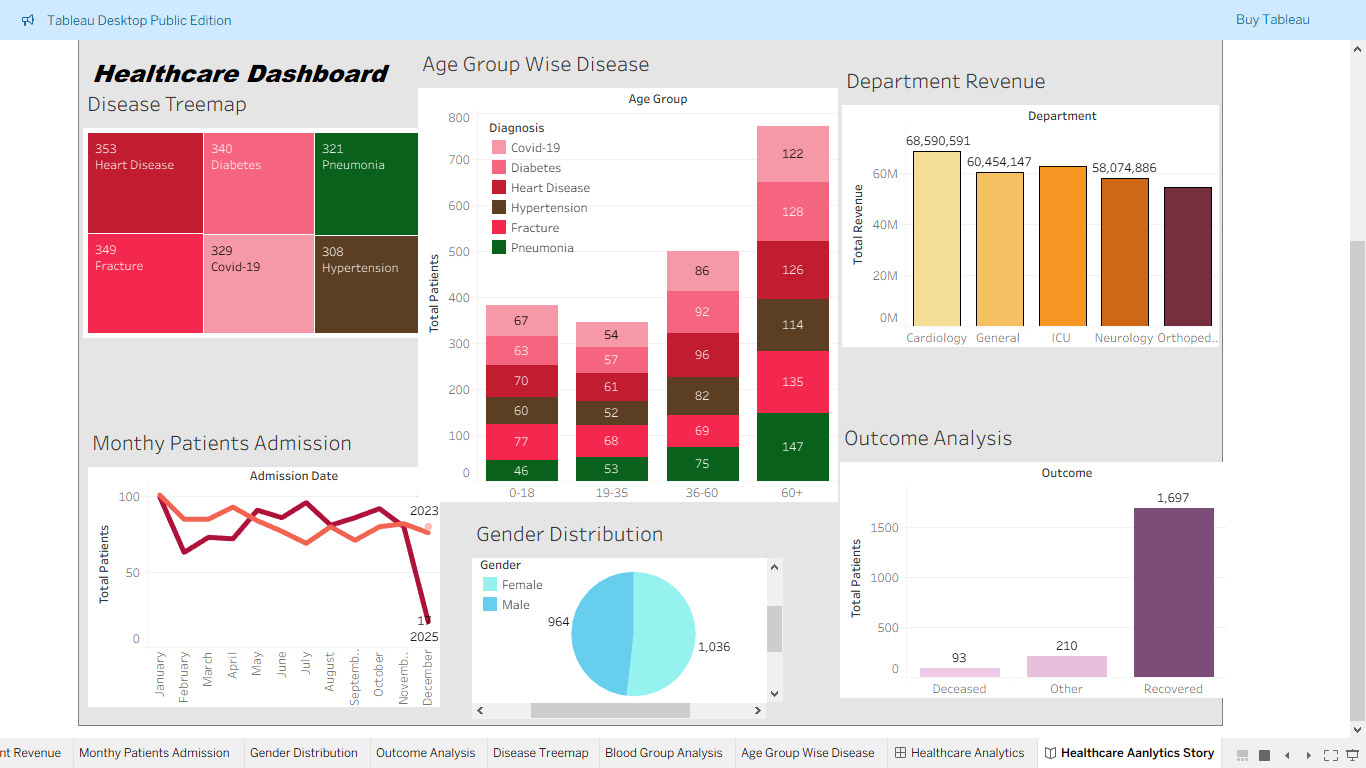

This screenshot's page, from the dashboard's own definition file:
{"tool":"tableau","page":{"name":"Healthcare Analytics","canvas":[1000,1000],"units":"permille","ordinal":0},"visuals":[{"type":"dashboard-object","param":"[com.tableau.addfilters].[0.0.0].[https://extensions.tableauusercontent.com/sand","box":[0,0,960.7,1000]},{"type":"text","box":[5.9,11.8,266.9,87.8]},{"type":"worksheet","title":"Age Group Wise Disease","mark":"Automatic","rows":["Calculation_226024446052048896"],"cols":["Age Group"],"box":[286.9,15.6,350,656.2]},{"type":"worksheet","title":"Department Revenue","mark":"Automatic","rows":["Calculation_226024446052782081"],"cols":["Department"],"box":[640.2,39.9,313.9,409.7]},{"type":"worksheet","title":"Disease Treemap","mark":"Automatic","box":[7.4,72.9,282.8,432.3]},{"type":"legend","title":"Age Group Wise Disease","param":"[federated.0wfbc6o1i18im51bnst9g1fkhtbh].[none:Diagnosis:nk]","box":[345.9,121.5,113.1,210.1]},{"type":"worksheet","title":"Outcome Analysis","mark":"Automatic","rows":["Patient_ID"],"cols":["Outcome"],"box":[638.5,553.8,322.1,401]},{"type":"worksheet","title":"Monthy Patients Admission","mark":"Line","rows":["Calculation_226024446052048896"],"cols":["Admission_Date"],"box":[11.7,560.8,293.7,407.1]},{"type":"worksheet","title":"Gender Distribution","mark":"Pie","box":[332,691,259,293.4]},{"type":"legend","title":"Gender Distribution","param":"[federated.0wfbc6o1i18im51bnst9g1fkhtbh].[none:Gender:nk]","box":[338.1,750,77.8,99.7]}]}

Visuals, with their boxes on the dashboard's canvas, which has no fixed pixel size, in thousandths of its width and height (x1, y1, x2, y2). These are canvas units, not pixel positions in the 1366x768 screenshot, which may show the page scaled, cropped or inside an application window:
dashboard-object: bbox=[0, 0, 961, 1000]
text: bbox=[6, 12, 273, 100]
"Age Group Wise Disease" worksheet: bbox=[287, 16, 637, 672]
"Department Revenue" worksheet: bbox=[640, 40, 954, 450]
"Disease Treemap" worksheet: bbox=[7, 73, 290, 505]
"Age Group Wise Disease" legend: bbox=[346, 122, 459, 332]
"Outcome Analysis" worksheet: bbox=[638, 554, 961, 955]
"Monthy Patients Admission" worksheet (Line marks): bbox=[12, 561, 305, 968]
"Gender Distribution" worksheet (Pie marks): bbox=[332, 691, 591, 984]
"Gender Distribution" legend: bbox=[338, 750, 416, 850]
